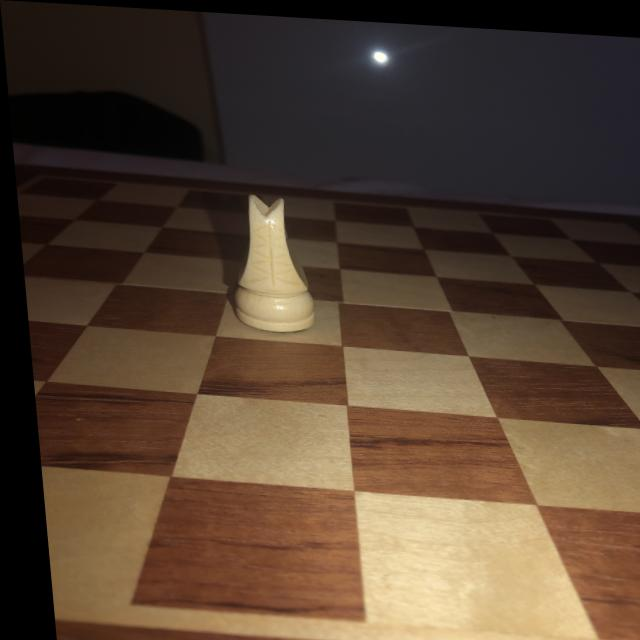white_knight: (214, 188, 314, 332)
